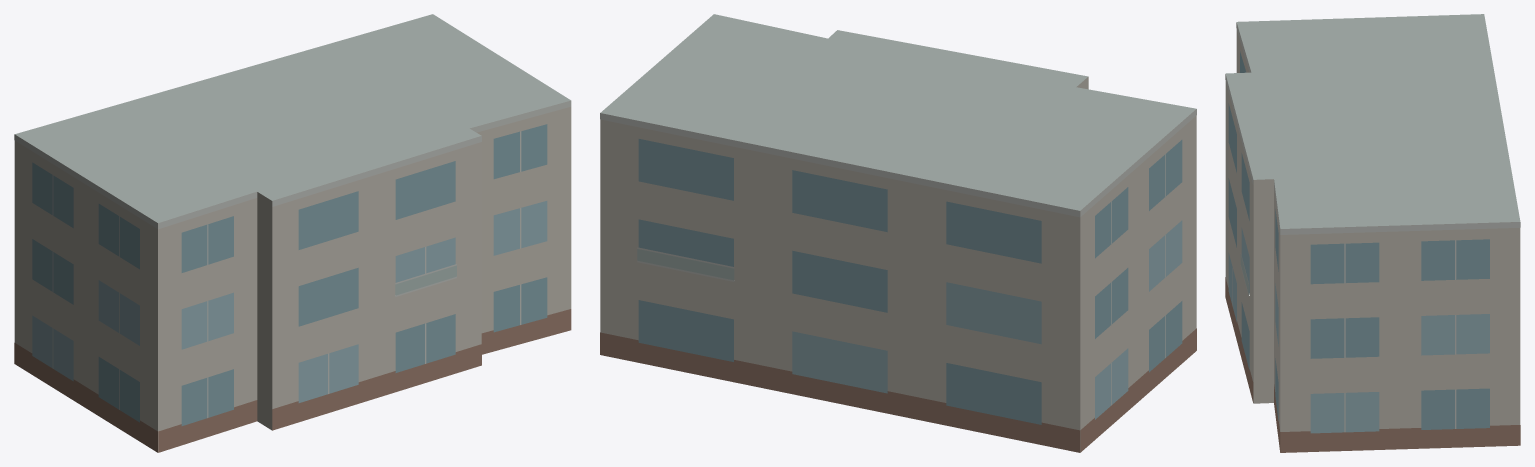
Rendered from survey-upis-32682306.glb.
The picture shows the model from 3 angles, left to right: view 1: azimuth 30°, elevation 25°; view 2: azimuth 150°, elevation 25°; view 3: azimuth 270°, elevation 25°; orthographic projection. The views are drawn at different scales.
Visible parts, largest first — view 1: survey-upis-32682306.tmp; view 2: survey-upis-32682306.tmp; view 3: survey-upis-32682306.tmp.
Boxes of the visible parts, bbox=[...] form: survey-upis-32682306.tmp: bbox=[14, 14, 571, 452]; survey-upis-32682306.tmp: bbox=[600, 14, 1196, 452]; survey-upis-32682306.tmp: bbox=[1225, 14, 1520, 452].
Bounding box in the file's own units: 18.86 × 9.15 × 10.94.
